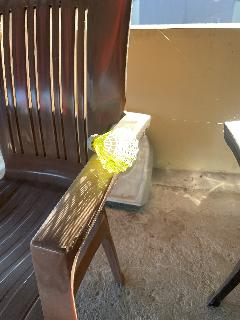shuttlecock: (86, 127, 138, 173)
